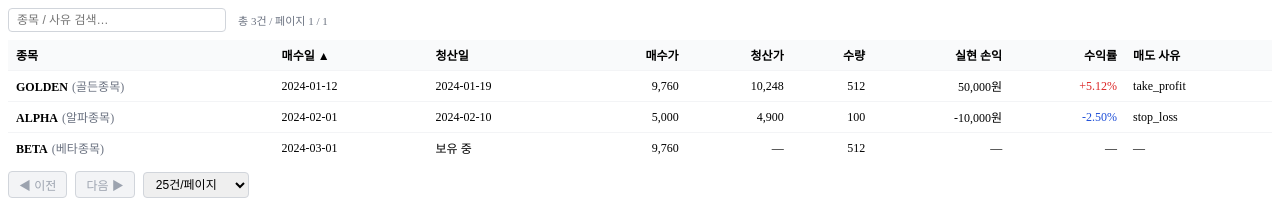
Test: TradesTable › 일치하는 거래가 없을 때 안내 메시지
Step 1. Type "ZZZ존재하지않음" into the field with test id "trades-filter" → (117, 20), box x1=8 y1=8 x2=226 y2=32
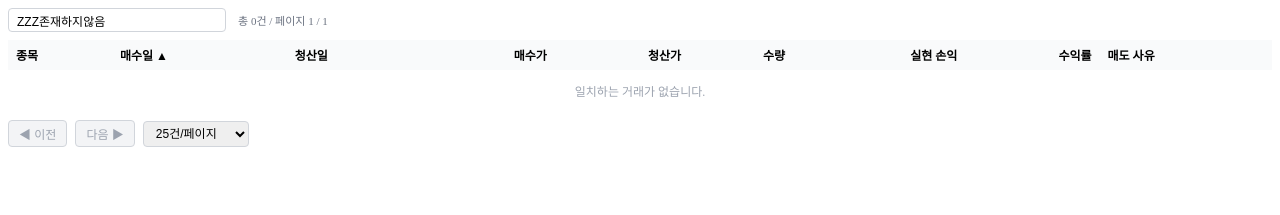
Now the text "일치하는 거래가 없습니다." is shown, box x1=8 y1=70 x2=1272 y2=112
